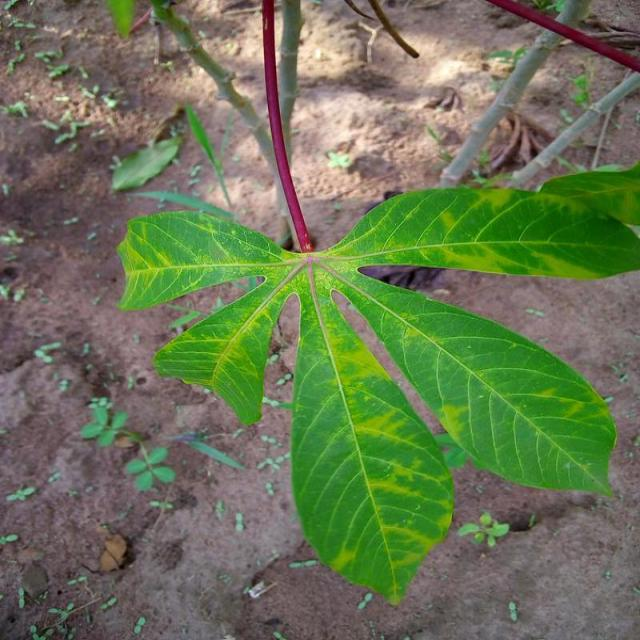cassava leaf: (114, 3, 638, 605), (288, 260, 455, 606), (116, 207, 290, 312)
